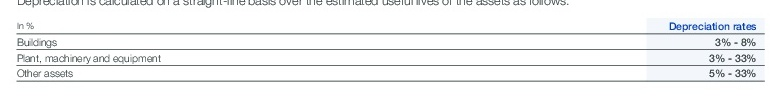table: (0, 0, 781, 96)
